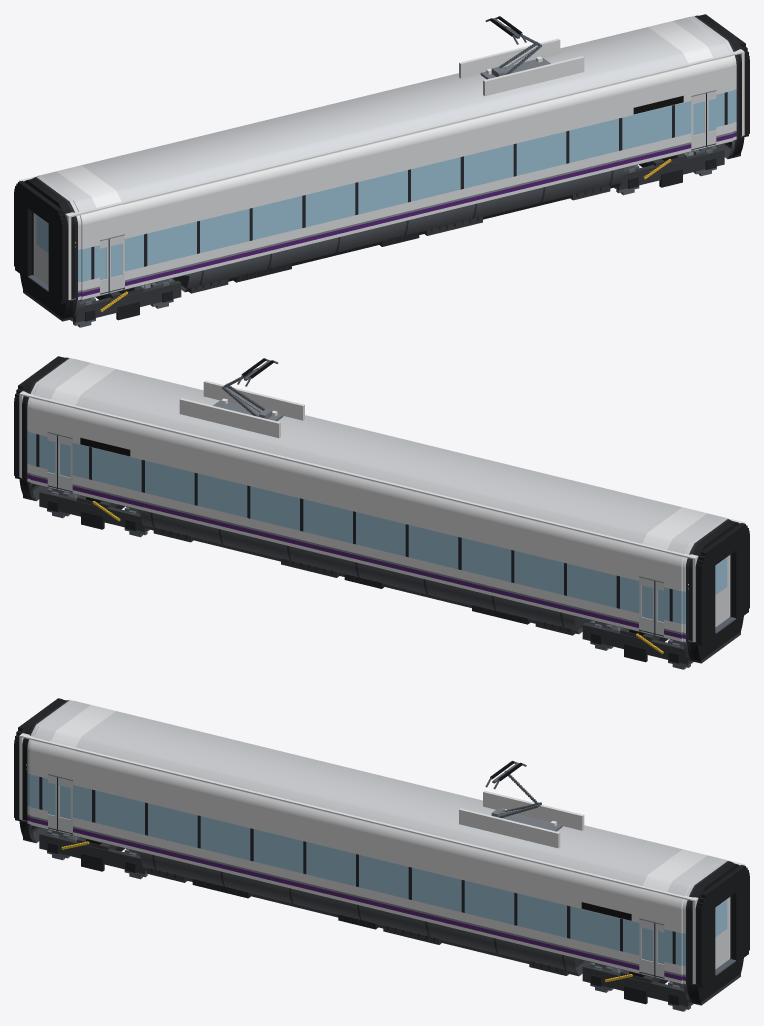
File: tgv_inoui_car.obj
The picture shows the model from 3 angles, top to bottom: view 1: azimuth 30°, elevation 25°; view 2: azimuth 150°, elevation 25°; view 3: azimuth 330°, elevation 25°; orthographic projection.
Visible parts, largest first — view 1: SHELL, SHELL_diaphragm, SHELL_pantograph, SHELL_ceiling, BOGEY_REAR, BOGEY_FRONT, FRAME, CONNECTING_DOOR_1_CG_CR_TOGGLE_TL_0.98_Z, EXTERNAL_DOOR_10_CG_DR2_TOGGLE_TL_-0.44_X, EXTERNAL_DOOR_5_CG_DR1_TOGGLE_TL_0.44_X, SHELL_end, EXTERNAL_DOOR_4_CG_DR1_TOGGLE_TL_-0.44_X (+1 smaller); view 2: SHELL, SHELL_diaphragm, SHELL_pantograph, SHELL_ceiling, BOGEY_REAR, BOGEY_FRONT, FRAME, CONNECTING_DOOR_1_CG_CR_TOGGLE_TL_0.98_Z, EXTERNAL_DOOR_13_CG_DL2_TOGGLE_TL_-0.44_X, EXTERNAL_DOOR_8_CG_DL1_TOGGLE_TL_0.44_X, SHELL_end, EXTERNAL_DOOR_7_CG_DL1_TOGGLE_TL_-0.44_X (+1 smaller); view 3: SHELL, SHELL_diaphragm, SHELL_pantograph, SHELL_ceiling, BOGEY_FRONT, BOGEY_REAR, FRAME, CONNECTING_DOOR_2_CG_CF_TOGGLE_TL_0.98_Z, EXTERNAL_DOOR_10_CG_DR2_TOGGLE_TL_-0.44_X, SHELL_end, EXTERNAL_DOOR_5_CG_DR1_TOGGLE_TL_0.44_X, EXTERNAL_DOOR_4_CG_DR1_TOGGLE_TL_-0.44_X (+1 smaller).
Part boxes in pixels (bbox=[...]): SHELL: bbox=[20, 14, 745, 321]; SHELL_diaphragm: bbox=[14, 14, 749, 303]; SHELL_pantograph: bbox=[459, 16, 584, 96]; SHELL_ceiling: bbox=[21, 16, 742, 217]; BOGEY_REAR: bbox=[73, 280, 181, 322]; BOGEY_FRONT: bbox=[616, 148, 724, 190]; FRAME: bbox=[100, 143, 716, 294]; CONNECTING_DOOR_1_CG_CR_TOGGLE_TL_0.98_Z: bbox=[34, 214, 48, 285]; EXTERNAL_DOOR_10_CG_DR2_TOGGLE_TL_-0.44_X: bbox=[691, 93, 706, 149]; EXTERNAL_DOOR_5_CG_DR1_TOGGLE_TL_0.44_X: bbox=[109, 235, 124, 291]; SHELL_end: bbox=[19, 15, 744, 300]; EXTERNAL_DOOR_4_CG_DR1_TOGGLE_TL_-0.44_X: bbox=[100, 239, 109, 293]; SHELL: bbox=[18, 356, 743, 663]; SHELL_diaphragm: bbox=[14, 356, 749, 645]; SHELL_pantograph: bbox=[179, 358, 304, 438]; SHELL_ceiling: bbox=[21, 358, 742, 559]; BOGEY_REAR: bbox=[582, 622, 690, 664]; BOGEY_FRONT: bbox=[39, 490, 147, 532]; FRAME: bbox=[47, 485, 663, 636]; CONNECTING_DOOR_1_CG_CR_TOGGLE_TL_0.98_Z: bbox=[715, 556, 729, 627]; EXTERNAL_DOOR_13_CG_DL2_TOGGLE_TL_-0.44_X: bbox=[57, 435, 72, 491]; EXTERNAL_DOOR_8_CG_DL1_TOGGLE_TL_0.44_X: bbox=[639, 577, 654, 633]; SHELL_end: bbox=[19, 357, 744, 642]; EXTERNAL_DOOR_7_CG_DL1_TOGGLE_TL_-0.44_X: bbox=[654, 581, 663, 635]; SHELL: bbox=[18, 698, 743, 1005]; SHELL_diaphragm: bbox=[14, 698, 749, 987]; SHELL_pantograph: bbox=[459, 761, 584, 848]; SHELL_ceiling: bbox=[21, 700, 742, 901]; BOGEY_FRONT: bbox=[582, 964, 690, 1006]; BOGEY_REAR: bbox=[39, 832, 147, 874]; FRAME: bbox=[48, 827, 664, 978]; CONNECTING_DOOR_2_CG_CF_TOGGLE_TL_0.98_Z: bbox=[715, 898, 729, 969]; EXTERNAL_DOOR_10_CG_DR2_TOGGLE_TL_-0.44_X: bbox=[639, 919, 655, 975]; SHELL_end: bbox=[19, 699, 744, 984]; EXTERNAL_DOOR_5_CG_DR1_TOGGLE_TL_0.44_X: bbox=[58, 777, 72, 833]; EXTERNAL_DOOR_4_CG_DR1_TOGGLE_TL_-0.44_X: bbox=[48, 775, 57, 829].
Bounding box in the file's own units: 22.17 × 5.68 × 2.92.
Materials: 1 (1 with a texture image).
